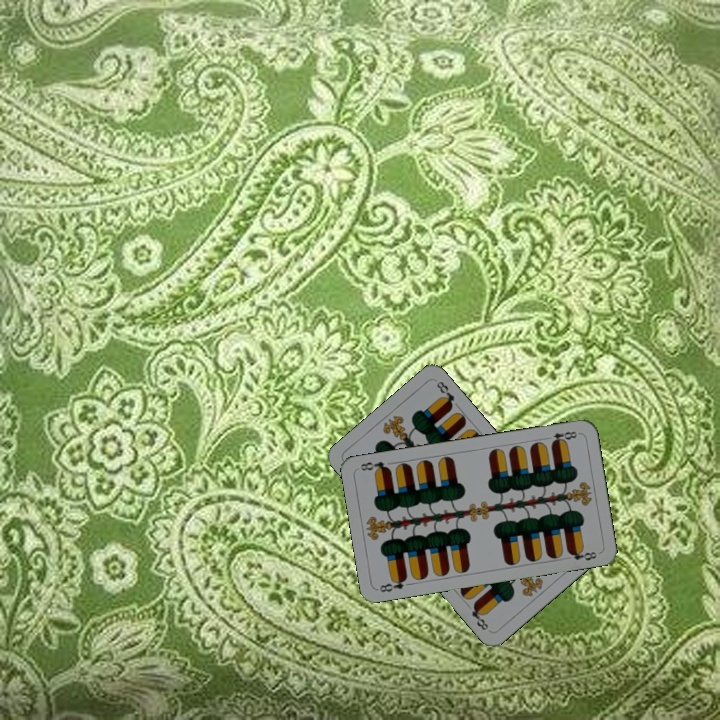E8: (375, 573, 410, 595), (547, 427, 582, 447)
